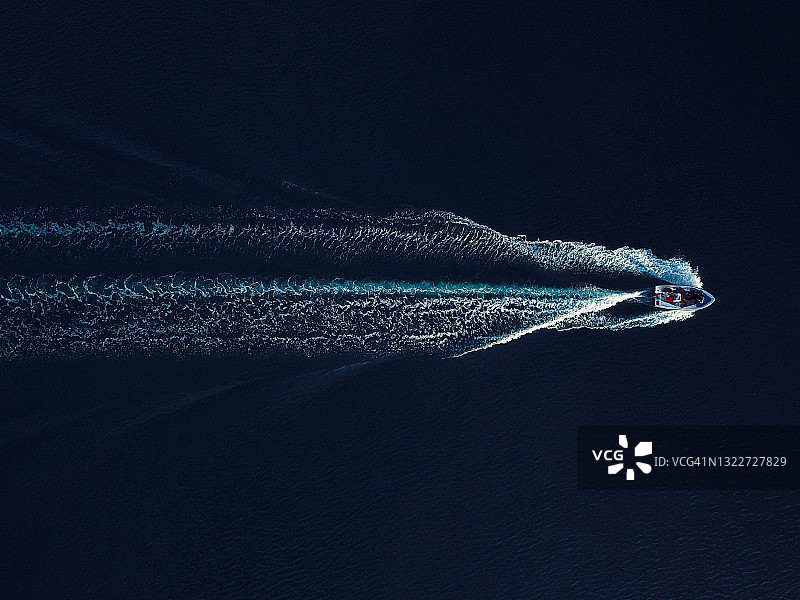ship: (624, 258, 737, 340)
